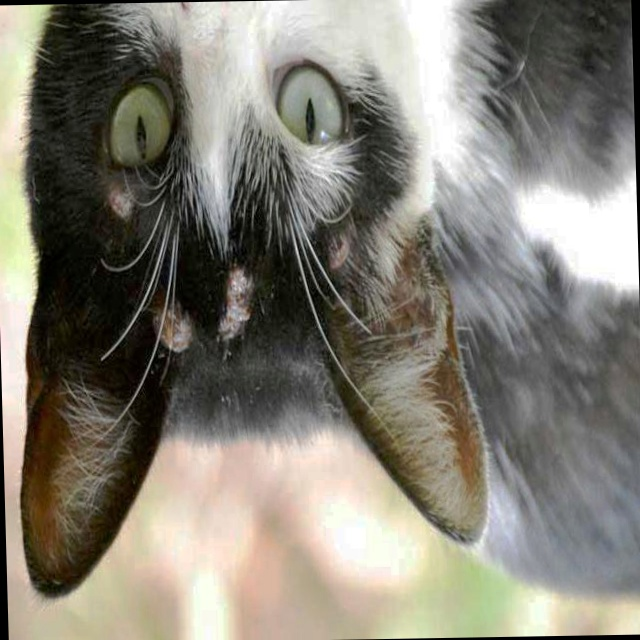lump_and_bump: (221, 267, 254, 328), (157, 311, 184, 349), (106, 189, 132, 220), (329, 236, 350, 266)
